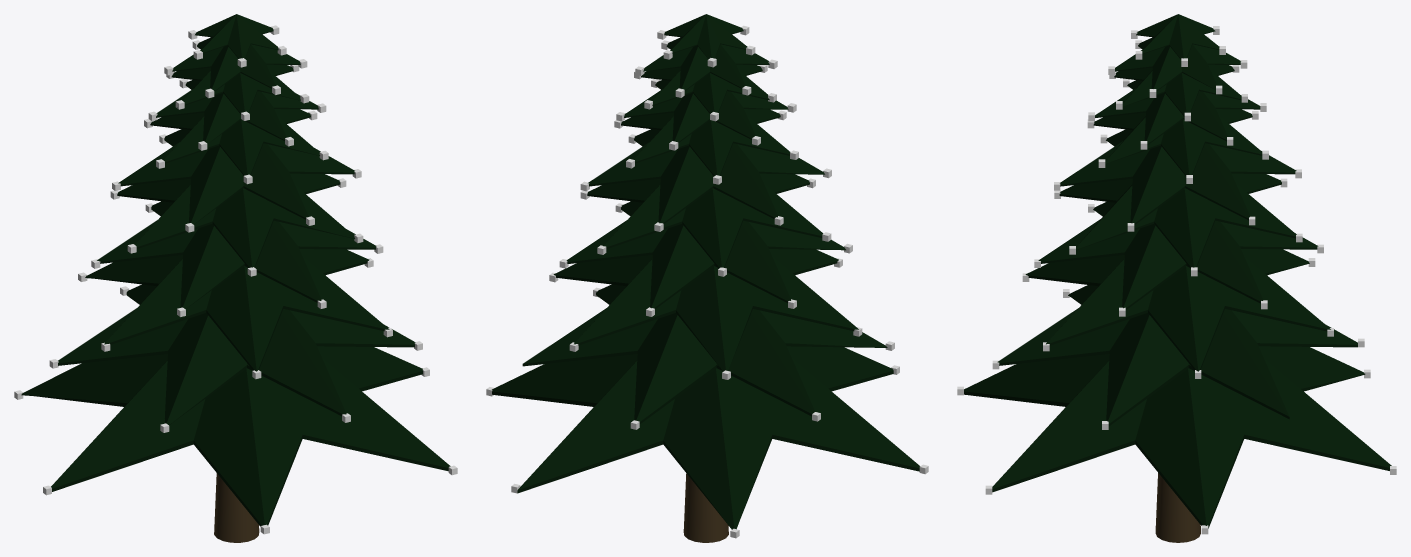
File: TREE2024model.fbx
3 renders of one model, left to right at view 1: azimuth 30°, elevation 25°; view 2: azimuth 150°, elevation 25°; view 3: azimuth 270°, elevation 25°, orthographic.
Parts seen in each view (by area): view 1: LEAVS.002, barck; view 2: LEAVS.002, barck; view 3: LEAVS.002, barck.
Part boxes in pixels (<box>): LEAVS.002: <box>21,14,450,526</box>; barck: <box>214,473,259,542</box>; LEAVS.002: <box>492,14,920,529</box>; barck: <box>683,473,728,542</box>; LEAVS.002: <box>964,14,1391,528</box>; barck: <box>1155,473,1200,542</box>.
Bounding box in the file's own units: 1.43 × 1.73 × 1.33.
